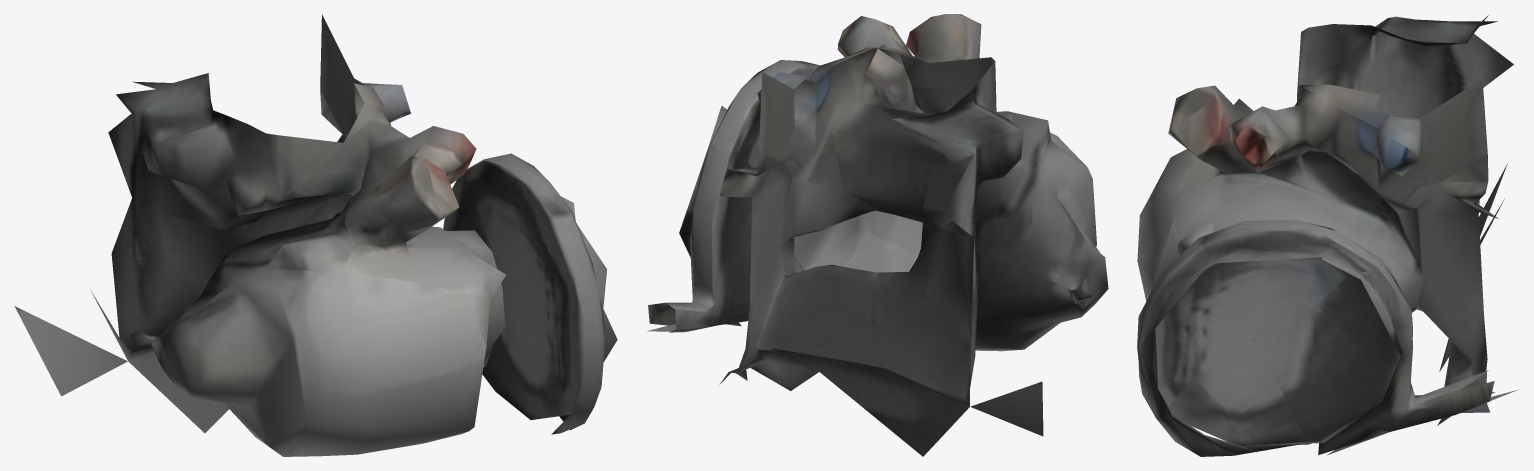
The model's file is alternator_22r.glb.
3 views of the same model, side by side, from view 1: azimuth 30°, elevation 25°; view 2: azimuth 150°, elevation 25°; view 3: azimuth 270°, elevation 25° (orthographic). The views are drawn at different scales.
Parts seen in each view (by area): view 1: alternator_22r; view 2: alternator_22r; view 3: alternator_22r.
Boxes of the visible parts, x1,y1,x2,y2 form: alternator_22r: [14, 14, 617, 456]; alternator_22r: [647, 14, 1108, 456]; alternator_22r: [1137, 14, 1518, 456].
Bounding box in the file's own units: 0.2053 × 0.1718 × 0.1651.
Materials: 1 (1 with a texture image).
